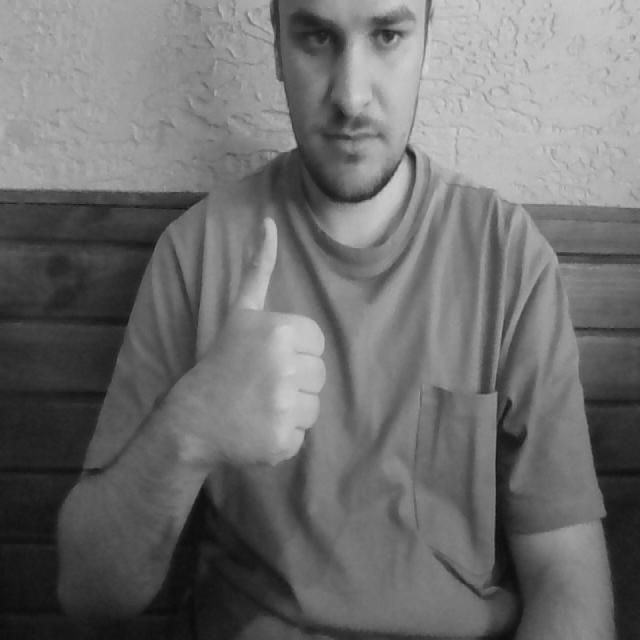Tamam: (190, 211, 328, 481)
